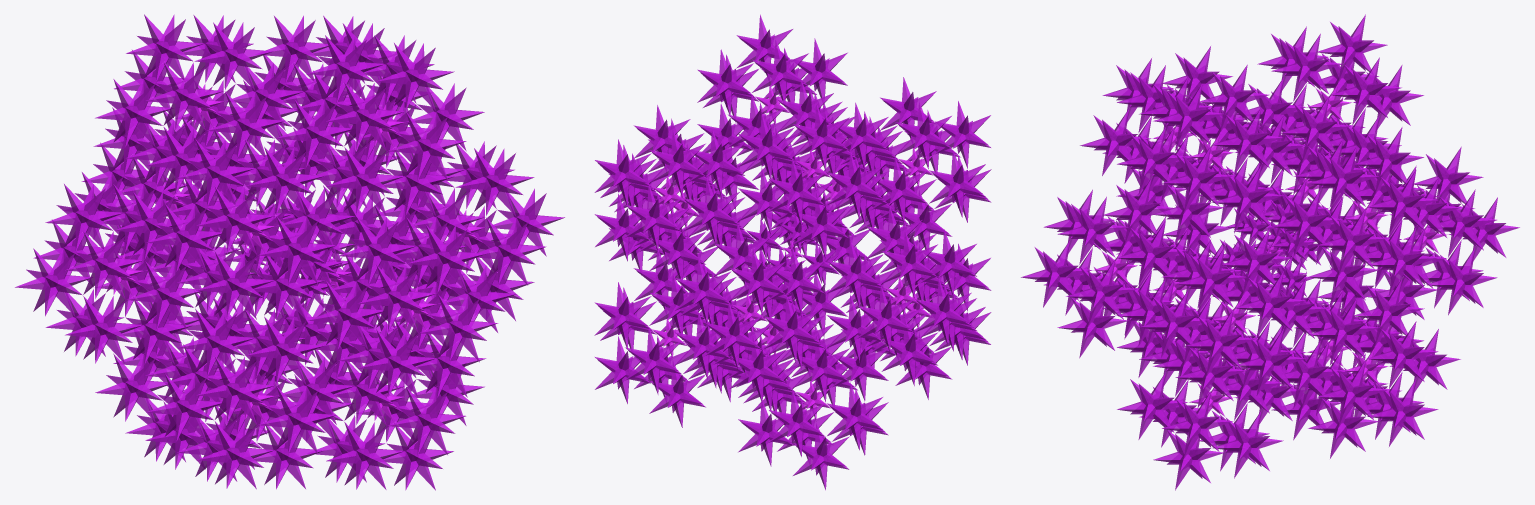
The model's file is fractalmedialtriambicicosahedron2.glb.
3 renders of one model, left to right at view 1: azimuth 30°, elevation 25°; view 2: azimuth 150°, elevation 25°; view 3: azimuth 270°, elevation 25°, orthographic. The views are drawn at different scales.
Size of the model in its own units: 11.26 by 9.84 by 11.26.
